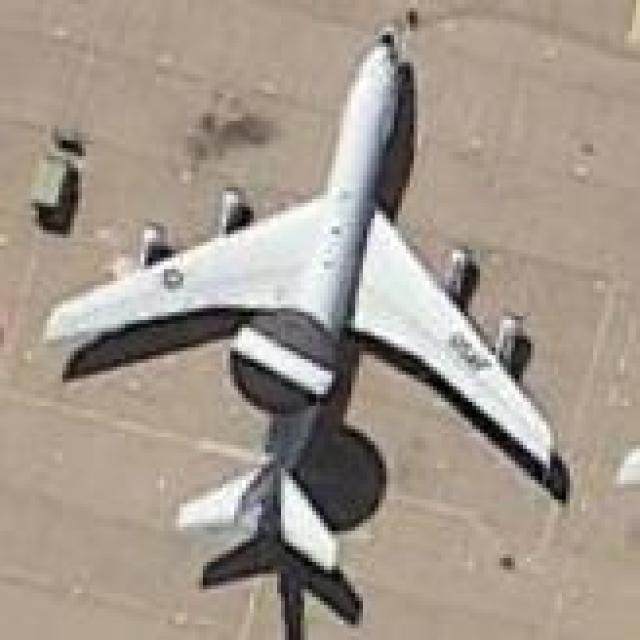E-3_TopDown: (35, 12, 574, 636)
